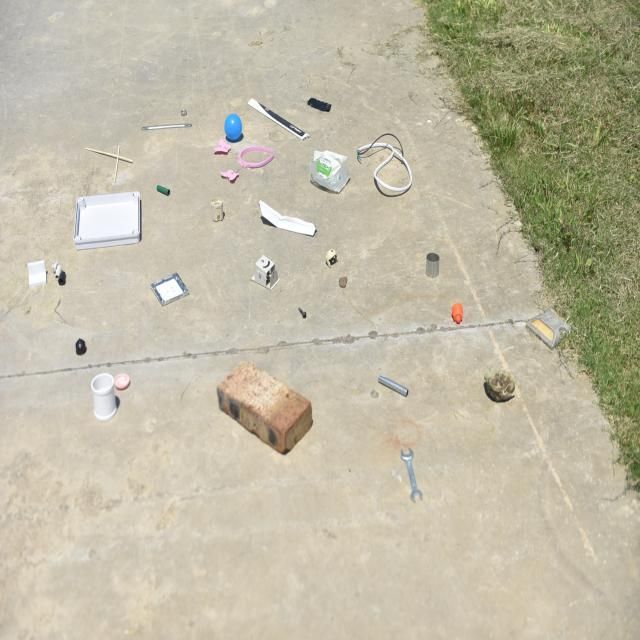Debris: (218, 360, 308, 457), (62, 183, 145, 250), (356, 132, 410, 197), (206, 137, 275, 185), (80, 366, 138, 423), (518, 301, 582, 352), (248, 196, 318, 239), (80, 132, 136, 178), (306, 142, 353, 195), (246, 92, 298, 132), (476, 372, 530, 405), (143, 268, 191, 304), (21, 253, 62, 295), (399, 443, 426, 501), (372, 368, 419, 398), (252, 253, 283, 291), (418, 252, 448, 279), (142, 122, 200, 135), (223, 112, 247, 143), (205, 196, 232, 222), (66, 340, 97, 362), (440, 304, 468, 326), (304, 92, 330, 114), (320, 245, 340, 270), (153, 178, 174, 200), (289, 303, 313, 319), (336, 272, 352, 293)
